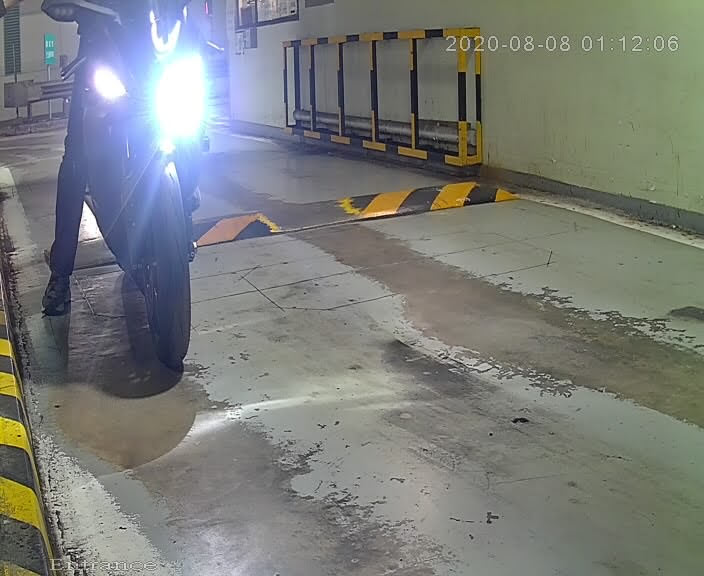motorcycle: (26, 1, 249, 415)
